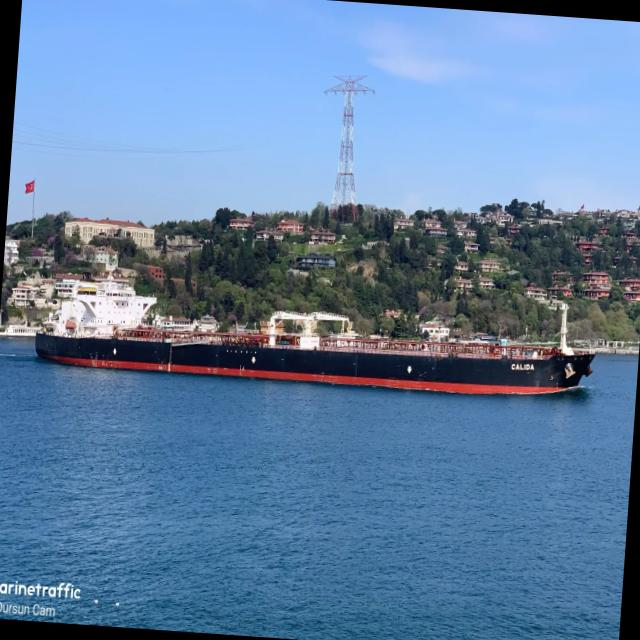Tanker: (35, 276, 594, 393)
